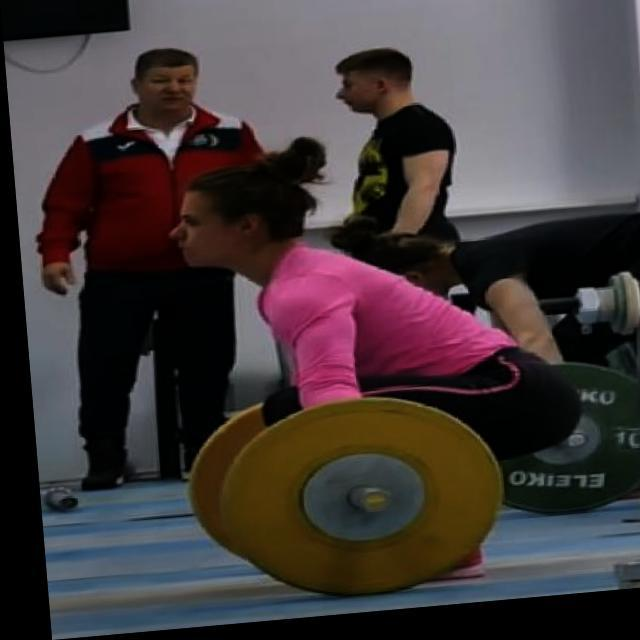barbell: (199, 387, 506, 615)
